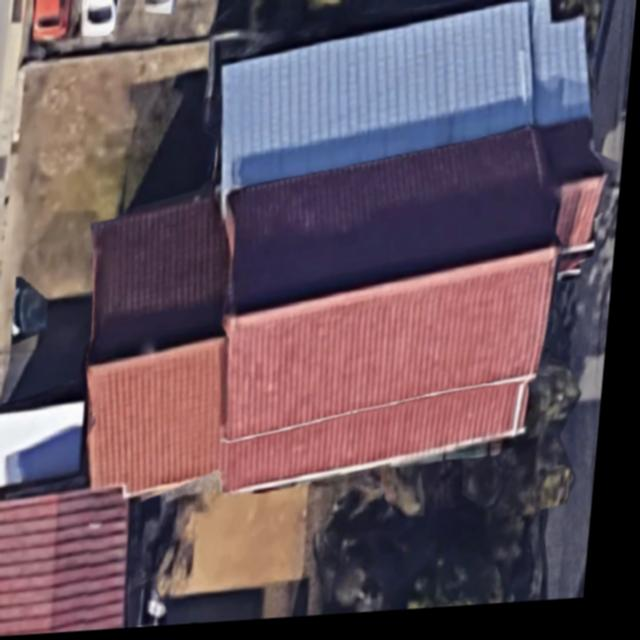Batiment: (94, 128, 608, 497), (223, 3, 594, 204), (0, 493, 137, 636)
